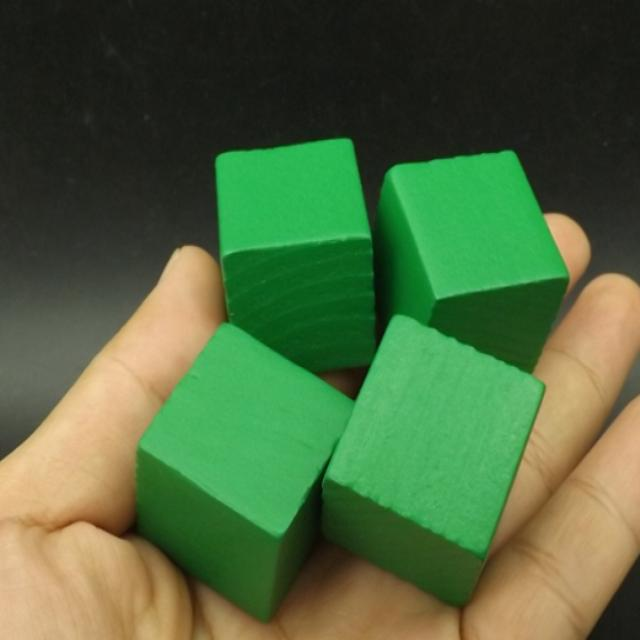green cube: (322, 316, 547, 610), (136, 324, 355, 622), (372, 147, 571, 375), (215, 138, 378, 373)
